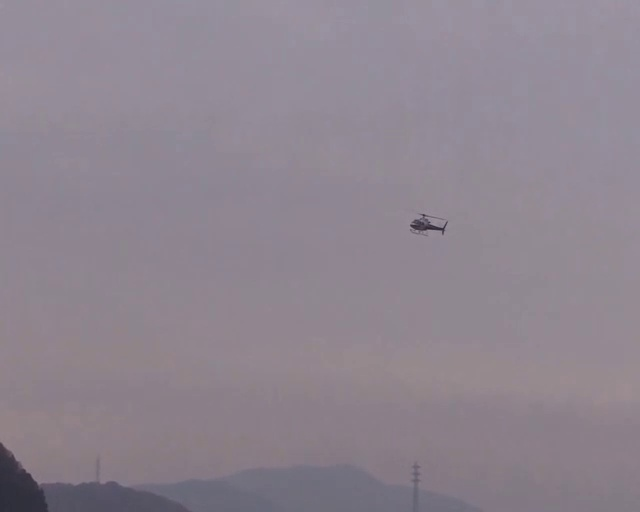HELICOPTER: (409, 212, 448, 236)
